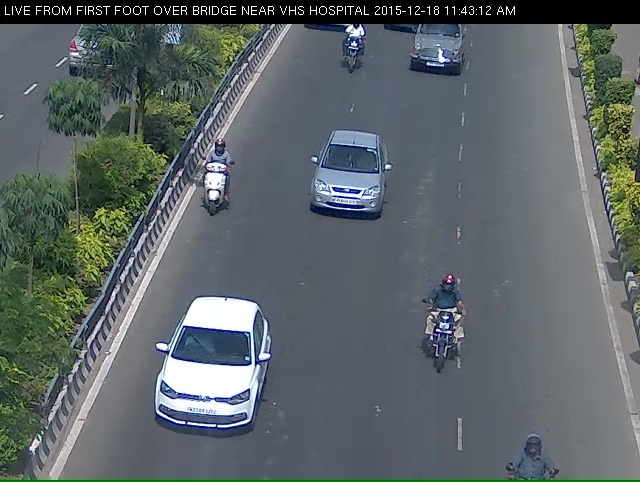Car: (137, 314, 273, 470), (293, 143, 406, 262), (402, 24, 474, 85)
Person: (417, 288, 474, 411), (186, 146, 228, 229), (338, 28, 369, 88)
